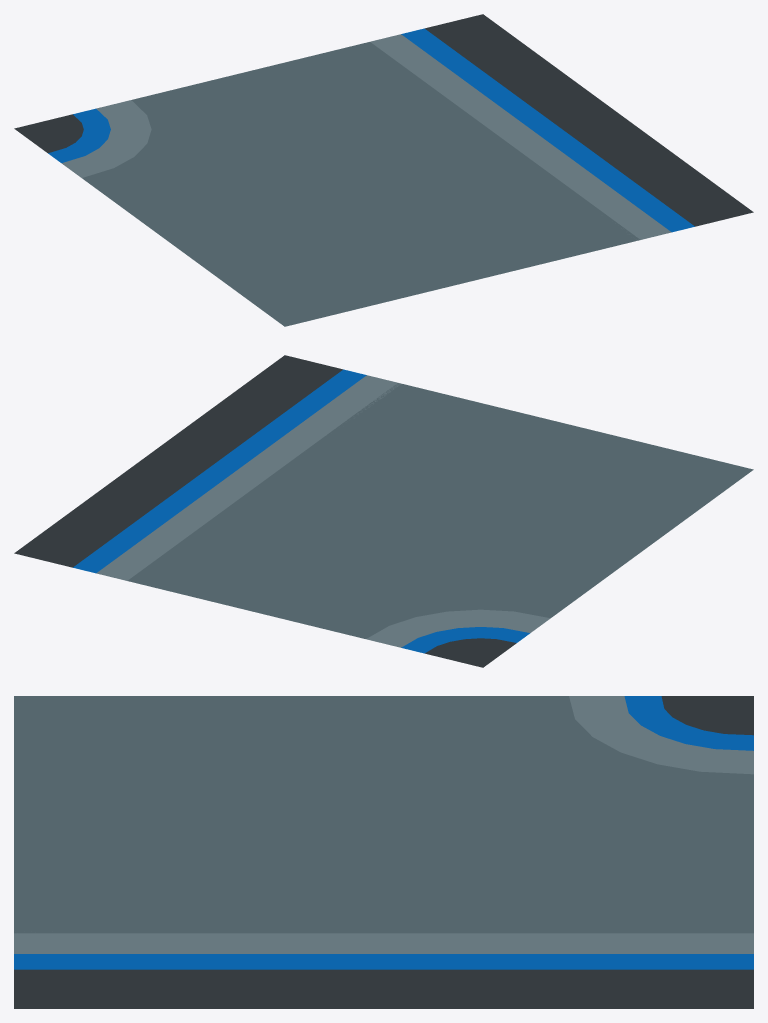
File: Ceiling_type_C_011.011.fbx
3 views of the same model, one above another, from view 1: azimuth 30°, elevation 25°; view 2: azimuth 150°, elevation 25°; view 3: azimuth 270°, elevation 25° (orthographic). The views are drawn at different scales.
Parts seen in each view (by area): view 1: Ceiling_type_C_011.011; view 2: Ceiling_type_C_011.011; view 3: Ceiling_type_C_011.011.
Boxes of the visible parts, box(x1,y1,x2,y2) form: Ceiling_type_C_011.011: box(14, 14, 753, 326); Ceiling_type_C_011.011: box(14, 355, 753, 667); Ceiling_type_C_011.011: box(14, 696, 753, 1008).
Bounding box in the file's own units: 400 × 400 × 5.66.
